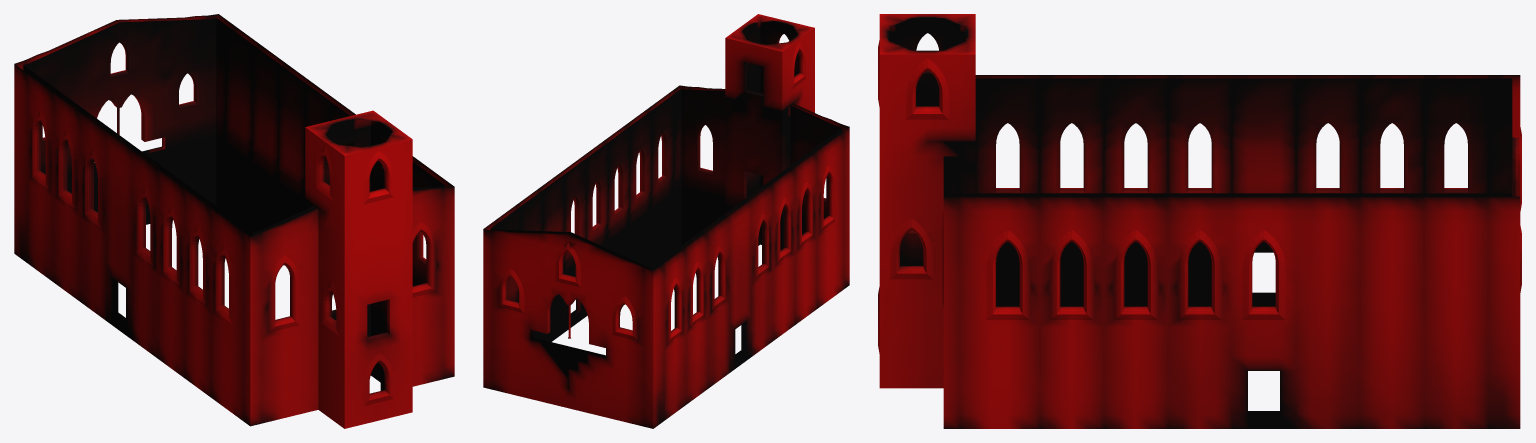
The model's file is MainBuilding.003_export.obj.
3 views of the same model, side by side, from view 1: azimuth 30°, elevation 25°; view 2: azimuth 150°, elevation 25°; view 3: azimuth 270°, elevation 25° (orthographic). The views are drawn at different scales.
Parts seen in each view (by area): view 1: MainBuilding.003; view 2: MainBuilding.003; view 3: MainBuilding.003.
Part boxes in pixels (box(x1,y1,x2,y2)): MainBuilding.003: box(14, 14, 454, 428); MainBuilding.003: box(483, 14, 849, 428); MainBuilding.003: box(878, 14, 1521, 428).
Size of the model in its own units: 18.2 by 23 by 40.2.
